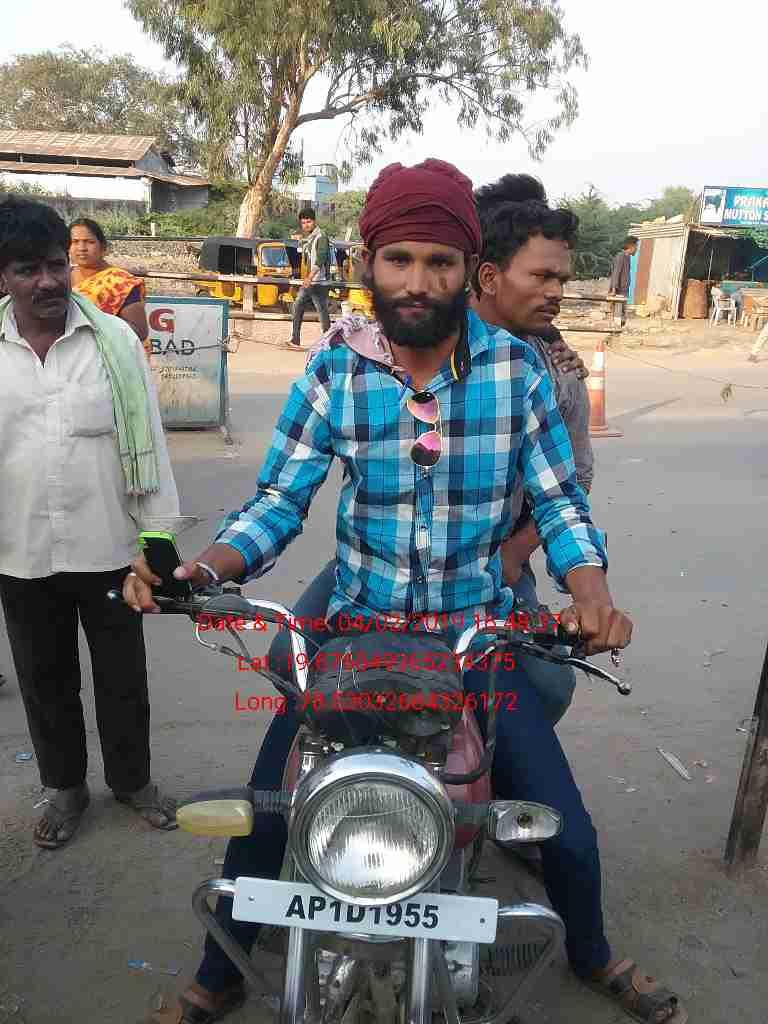plate: (224, 874, 504, 950)
